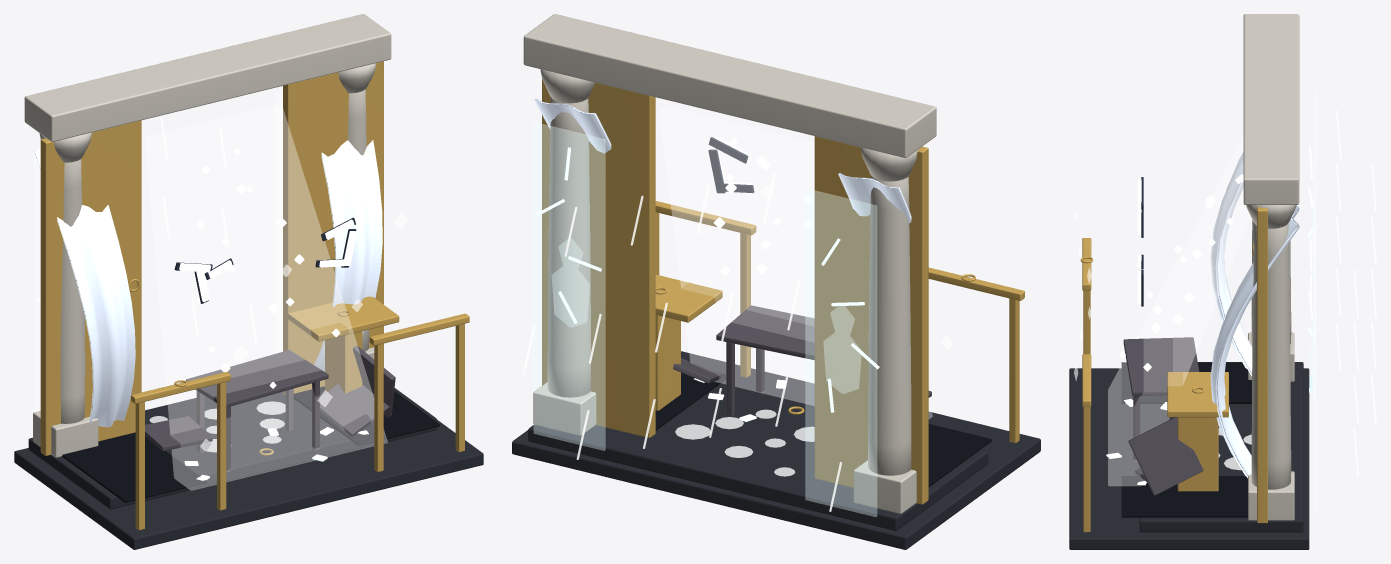
The model's file is webtoon-aftermath-cracked-fissure-bay-v26.glb.
The picture shows the model from 3 angles, left to right: view 1: azimuth 30°, elevation 25°; view 2: azimuth 150°, elevation 25°; view 3: azimuth 270°, elevation 25°; orthographic projection. The views are drawn at different scales.
Visible parts, largest first — view 1: Volumetric_V26Stage2_Cracked_GodRaySlit, Articulated_V26Stage2_Cracked_DoorsAndIkRig, V26Stage2_Cracked_DatumDeck, V26Stage2_Cracked_PortalColonnade, WindDrape_V26Stage2_Cracked_CatenaryPair, Aftermath_V26Stage2_Cracked_DatumProps, ShadowDrift_V26Stage2_Cracked_UmbraMask, HalfMirror_V26Stage2_Cracked_FresnelReflection, ZDepthSFX_V26Stage2_Cracked_GlyphCore, Weather_V26Stage2_Cracked_IndoorWetRipples, Atmospheric_V26Stage2_Cracked_MidMotes, Atmospheric_V26Stage2_Cracked_FgBokehLayer (+1 smaller); view 2: Articulated_V26Stage2_Cracked_DoorsAndIkRig, V26Stage2_Cracked_PortalColonnade, HalfMirror_V26Stage2_Cracked_FresnelReflection, V26Stage2_Cracked_DatumDeck, Volumetric_V26Stage2_Cracked_GodRaySlit, Aftermath_V26Stage2_Cracked_DatumProps, ShadowDrift_V26Stage2_Cracked_UmbraMask, WindDrape_V26Stage2_Cracked_CatenaryPair, Weather_V26Stage2_Cracked_ExteriorOccluded, Weather_V26Stage2_Cracked_IndoorWetRipples, Aftermath_V26Stage2_Cracked_PrismShards, ZDepthSFX_V26Stage2_Cracked_ShadowPlate (+1 smaller); view 3: V26Stage2_Cracked_PortalColonnade, V26Stage2_Cracked_DatumDeck, Volumetric_V26Stage2_Cracked_GodRaySlit, Articulated_V26Stage2_Cracked_DoorsAndIkRig, Aftermath_V26Stage2_Cracked_DatumProps, WindDrape_V26Stage2_Cracked_CatenaryPair, ShadowDrift_V26Stage2_Cracked_UmbraMask, Weather_V26Stage2_Cracked_ExteriorOccluded, HalfMirror_V26Stage2_Cracked_FresnelReflection, Atmospheric_V26Stage2_Cracked_MidMotes, Aftermath_V26Stage2_Cracked_PrismShards, ZDepthSFX_V26Stage2_Cracked_GlyphCore.
Part boxes in pixels (bbox=[...]): Volumetric_V26Stage2_Cracked_GodRaySlit: bbox=[145, 105, 387, 490]; Articulated_V26Stage2_Cracked_DoorsAndIkRig: bbox=[40, 61, 469, 530]; V26Stage2_Cracked_DatumDeck: bbox=[14, 388, 483, 549]; V26Stage2_Cracked_PortalColonnade: bbox=[24, 14, 391, 457]; WindDrape_V26Stage2_Cracked_CatenaryPair: bbox=[34, 140, 382, 427]; Aftermath_V26Stage2_Cracked_DatumProps: bbox=[145, 345, 395, 472]; ShadowDrift_V26Stage2_Cracked_UmbraMask: bbox=[62, 386, 439, 502]; HalfMirror_V26Stage2_Cracked_FresnelReflection: bbox=[33, 91, 282, 412]; ZDepthSFX_V26Stage2_Cracked_GlyphCore: bbox=[179, 219, 356, 302]; Weather_V26Stage2_Cracked_IndoorWetRipples: bbox=[149, 401, 285, 452]; Atmospheric_V26Stage2_Cracked_MidMotes: bbox=[196, 148, 340, 388]; Atmospheric_V26Stage2_Cracked_FgBokehLayer: bbox=[200, 212, 408, 451]; Articulated_V26Stage2_Cracked_DoorsAndIkRig: bbox=[542, 79, 1024, 504]; V26Stage2_Cracked_PortalColonnade: bbox=[523, 14, 936, 513]; HalfMirror_V26Stage2_Cracked_FresnelReflection: bbox=[534, 122, 876, 516]; V26Stage2_Cracked_DatumDeck: bbox=[512, 351, 1040, 549]; Volumetric_V26Stage2_Cracked_GodRaySlit: bbox=[659, 106, 932, 418]; Aftermath_V26Stage2_Cracked_DatumProps: bbox=[673, 305, 931, 416]; ShadowDrift_V26Stage2_Cracked_UmbraMask: bbox=[655, 371, 991, 487]; WindDrape_V26Stage2_Cracked_CatenaryPair: bbox=[534, 99, 911, 223]; Weather_V26Stage2_Cracked_ExteriorOccluded: bbox=[522, 173, 841, 511]; Weather_V26Stage2_Cracked_IndoorWetRipples: bbox=[675, 409, 814, 476]; Aftermath_V26Stage2_Cracked_PrismShards: bbox=[536, 147, 879, 421]; ZDepthSFX_V26Stage2_Cracked_ShadowPlate: bbox=[708, 137, 754, 193]; V26Stage2_Cracked_PortalColonnade: bbox=[1243, 14, 1299, 520]; V26Stage2_Cracked_DatumDeck: bbox=[1069, 362, 1309, 549]; Volumetric_V26Stage2_Cracked_GodRaySlit: bbox=[1108, 137, 1250, 485]; Articulated_V26Stage2_Cracked_DoorsAndIkRig: bbox=[1080, 207, 1267, 532]; Aftermath_V26Stage2_Cracked_DatumProps: bbox=[1123, 337, 1203, 495]; WindDrape_V26Stage2_Cracked_CatenaryPair: bbox=[1210, 76, 1299, 478]; ShadowDrift_V26Stage2_Cracked_UmbraMask: bbox=[1121, 362, 1251, 517]; Weather_V26Stage2_Cracked_ExteriorOccluded: bbox=[1336, 110, 1376, 476]; HalfMirror_V26Stage2_Cracked_FresnelReflection: bbox=[1310, 89, 1316, 512]; Atmospheric_V26Stage2_Cracked_MidMotes: bbox=[1119, 174, 1243, 371]; Aftermath_V26Stage2_Cracked_PrismShards: bbox=[1106, 146, 1313, 485]; ZDepthSFX_V26Stage2_Cracked_GlyphCore: bbox=[1137, 179, 1141, 303].
Size of the model in its own units: 2.76 by 2.78 by 2.1.
